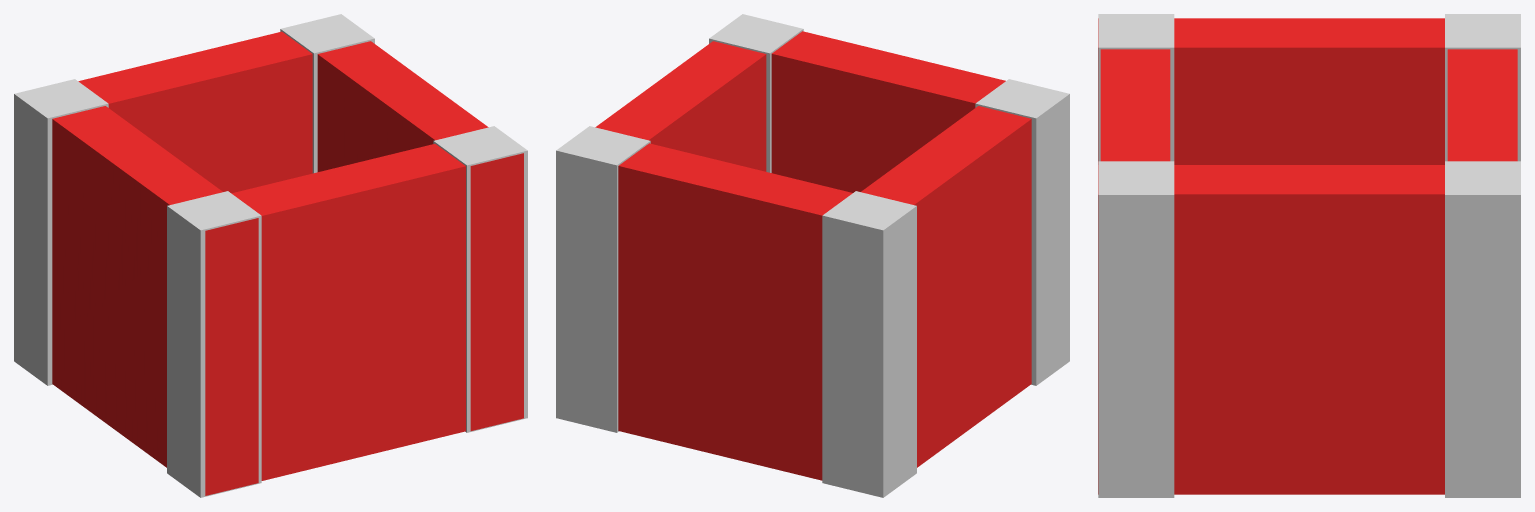
The model's file is ItemBox3.fbx.
The picture shows the model from 3 angles, left to right: view 1: azimuth 30°, elevation 25°; view 2: azimuth 150°, elevation 25°; view 3: azimuth 270°, elevation 25°; orthographic projection. The views are drawn at different scales.
Parts seen in each view (by area): view 1: Box004, Box001, Box002, Box003, Box006, Box005, Box008, Box007; view 2: Box003, Box001, Box005, Box004, Box007, Box002, Box006, Box008; view 3: Box002, Box001, Box008, Box007, Box003, Box004, Box006, Box005.
Boxes of the visible parts, x1=… form: Box004: x1=231, y1=144, x2=465, y2=480; Box001: x1=52, y1=106, x2=258, y2=495; Box002: x1=317, y1=41, x2=523, y2=430; Box003: x1=78, y1=31, x2=312, y2=193; Box006: x1=167, y1=191, x2=261, y2=497; Box005: x1=14, y1=79, x2=108, y2=385; Box008: x1=433, y1=126, x2=527, y2=432; Box007: x1=280, y1=14, x2=374, y2=173; Box003: x1=618, y1=143, x2=852, y2=480; Box001: x1=861, y1=106, x2=1031, y2=467; Box005: x1=822, y1=191, x2=916, y2=497; Box004: x1=771, y1=31, x2=1005, y2=192; Box007: x1=556, y1=126, x2=650, y2=432; Box002: x1=595, y1=41, x2=766, y2=171; Box006: x1=975, y1=79, x2=1069, y2=385; Box008: x1=709, y1=14, x2=803, y2=172; Box002: x1=1098, y1=165, x2=1444, y2=494; Box001: x1=1098, y1=18, x2=1444, y2=164; Box008: x1=1098, y1=161, x2=1174, y2=497; Box007: x1=1445, y1=161, x2=1520, y2=497; Box003: x1=1447, y1=49, x2=1517, y2=161; Box004: x1=1100, y1=49, x2=1170, y2=161; Box006: x1=1098, y1=14, x2=1174, y2=161; Box005: x1=1445, y1=14, x2=1520, y2=161.
Size of the model in its own units: 20.43 by 15.96 by 20.18.
